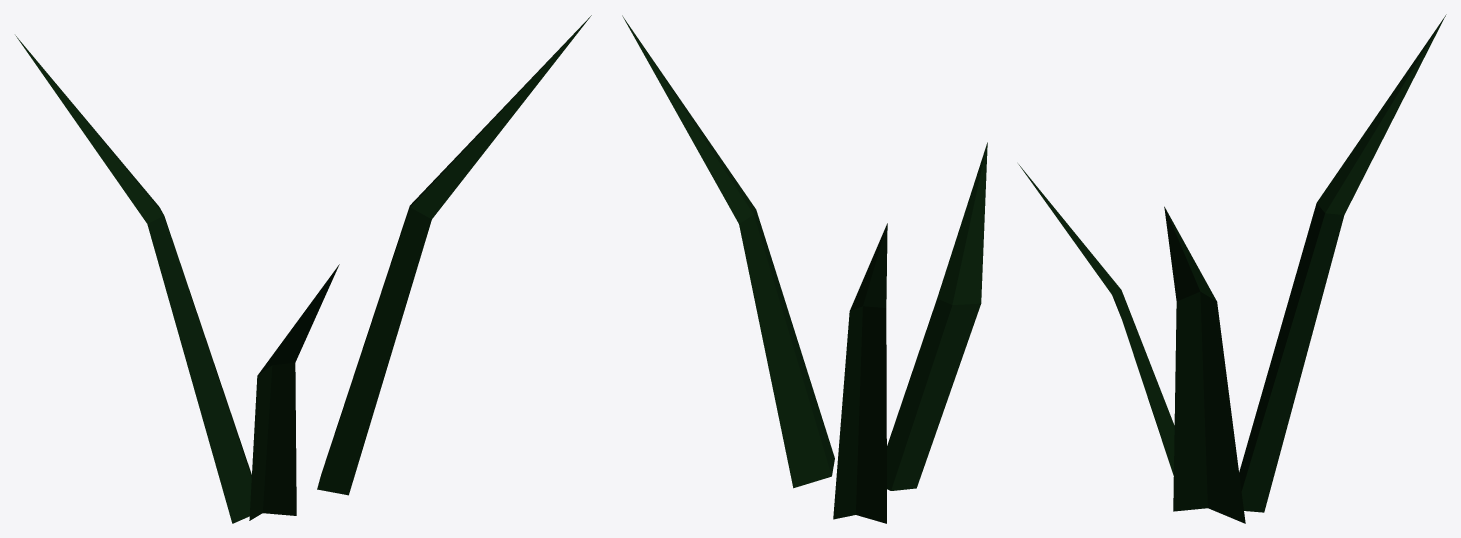
The model's file is Grass2.obj.
The picture shows the model from 3 angles, left to right: view 1: azimuth 30°, elevation 25°; view 2: azimuth 150°, elevation 25°; view 3: azimuth 270°, elevation 25°; orthographic projection. The views are drawn at different scales.
Visible parts, largest first — view 1: Plane.001; view 2: Plane.001; view 3: Plane.001.
Boxes of the visible parts, x1,y1,x2,y2 form: Plane.001: [15, 15, 591, 523]; Plane.001: [622, 15, 987, 523]; Plane.001: [1018, 14, 1446, 523].
Size of the model in its own units: 2.85 by 2.85 by 2.47.
